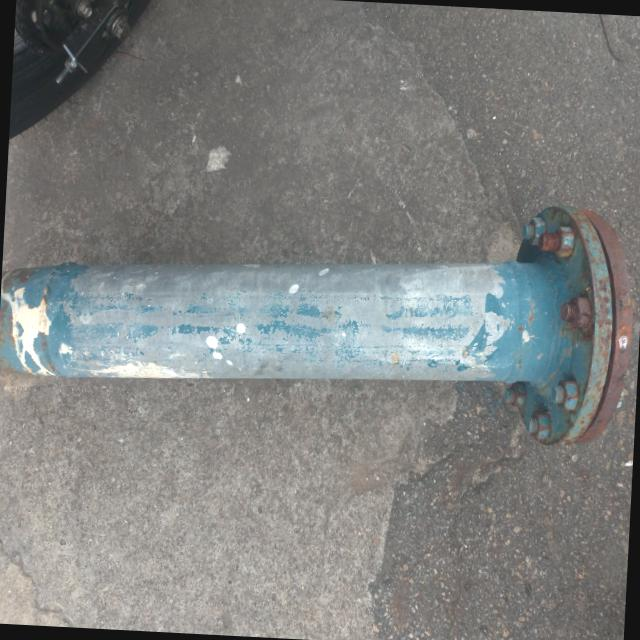gas: (0, 264, 551, 385)
